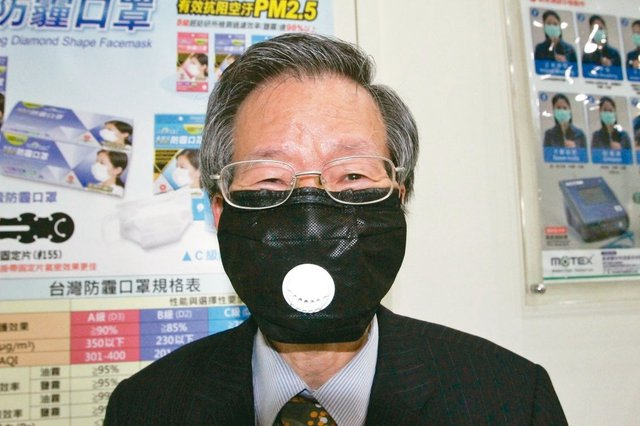mask: (219, 189, 411, 339)
